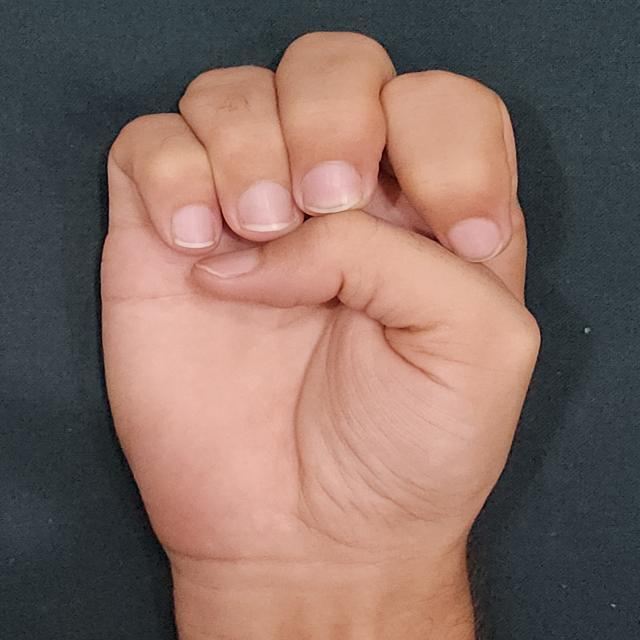ز: (78, 24, 555, 596)
